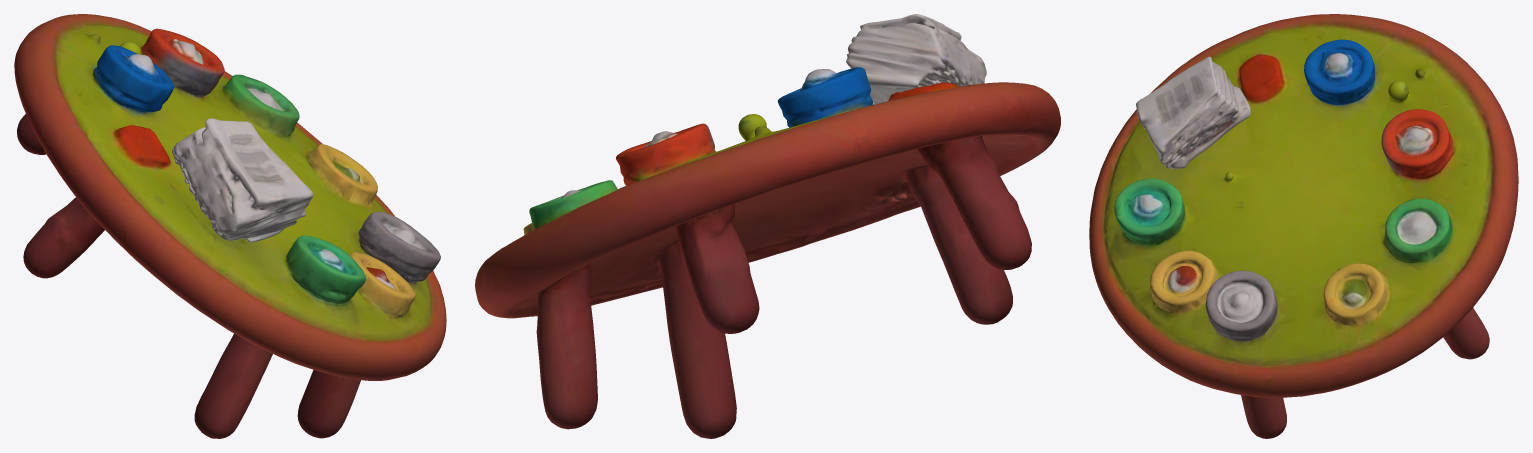
File: peer_review_table.glb
3 views of the same model, side by side, from view 1: azimuth 30°, elevation 25°; view 2: azimuth 150°, elevation 25°; view 3: azimuth 270°, elevation 25° (orthographic). The views are drawn at different scales.
Visible parts, largest first — view 1: tripo_node_f1f01d09-b2b6-4b47-ac1d-5db925a38c64; view 2: tripo_node_f1f01d09-b2b6-4b47-ac1d-5db925a38c64; view 3: tripo_node_f1f01d09-b2b6-4b47-ac1d-5db925a38c64.
Part boxes in pixels (box(x1,y1,x2,y2)): tripo_node_f1f01d09-b2b6-4b47-ac1d-5db925a38c64: box(14, 14, 446, 438); tripo_node_f1f01d09-b2b6-4b47-ac1d-5db925a38c64: box(475, 14, 1060, 438); tripo_node_f1f01d09-b2b6-4b47-ac1d-5db925a38c64: box(1089, 14, 1518, 438).
Bounding box in the file's own units: 0.8838 × 0.7936 × 0.9384.
1 material, 1 textured.
